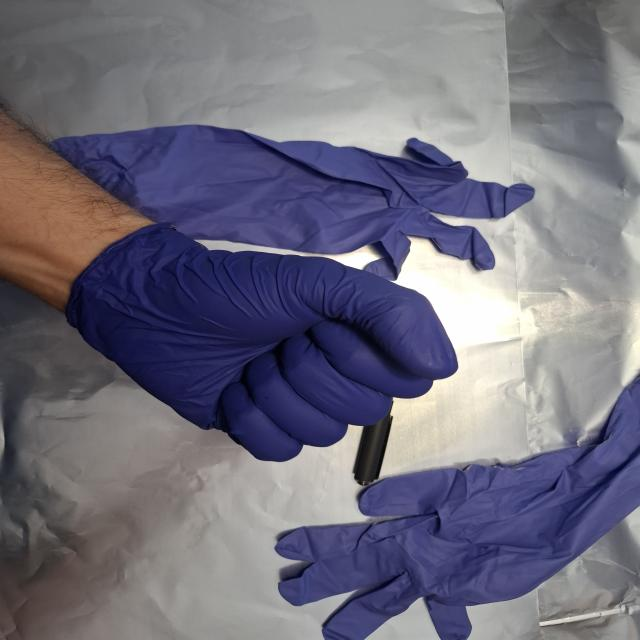glove_on: (61, 220, 464, 464)
